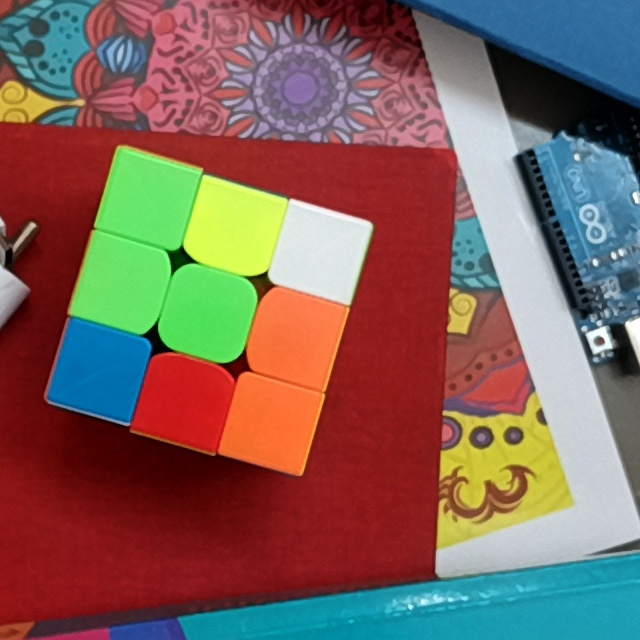tile: (238, 387, 305, 458), (201, 196, 267, 261), (263, 304, 328, 370), (176, 281, 242, 346), (150, 370, 219, 431), (65, 340, 133, 401), (116, 169, 182, 231), (90, 253, 156, 315), (287, 222, 353, 283)
